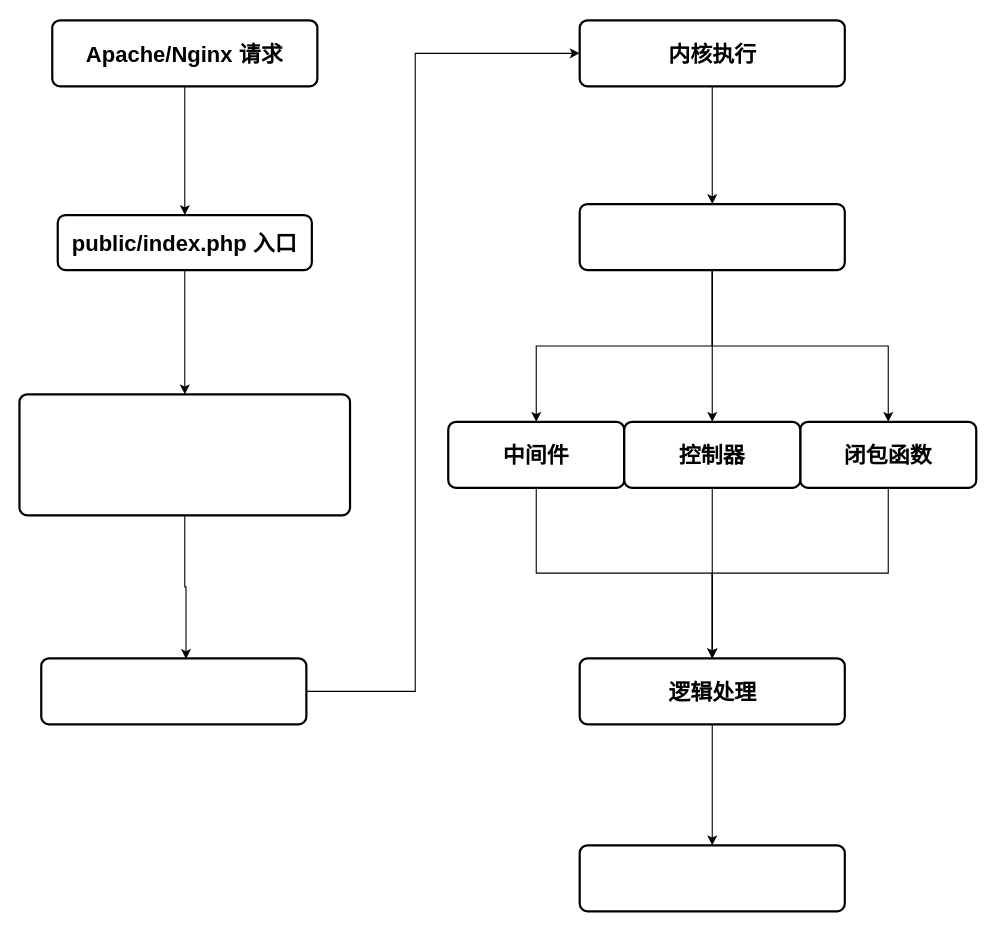
This 997x931 diagram has some shape labels left out. Each missing label, with the centre of its shape:
"1. 加载composer自动导入。 2. 加载框架启动核心文件。 3. 实例化（http/cli）内核" belongs at [184,454].
"分发路由" belongs at [711,236].
"启动内核" belongs at [173,691].
"返回结果" belongs at [711,878].
